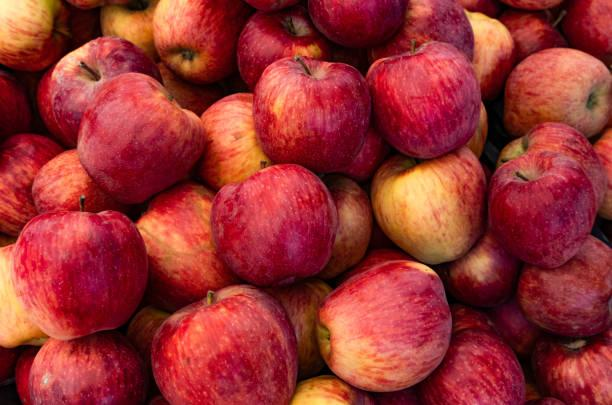apple: (8, 207, 152, 346), (146, 290, 304, 405), (483, 122, 606, 266), (76, 69, 204, 204), (314, 262, 457, 381), (205, 164, 335, 286), (255, 45, 371, 173), (368, 46, 492, 156), (370, 156, 483, 261), (515, 243, 612, 343), (503, 45, 612, 133), (22, 327, 144, 405), (32, 49, 152, 121), (150, 2, 242, 84), (429, 331, 527, 405), (516, 333, 612, 405), (205, 87, 266, 188), (0, 0, 69, 74), (301, 0, 405, 48), (405, 0, 474, 58), (569, 0, 612, 54)
